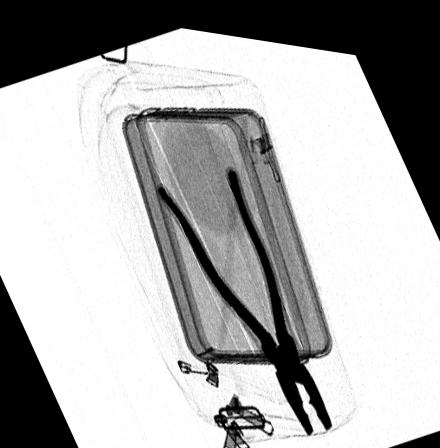Pliers: (154, 159, 334, 424)
